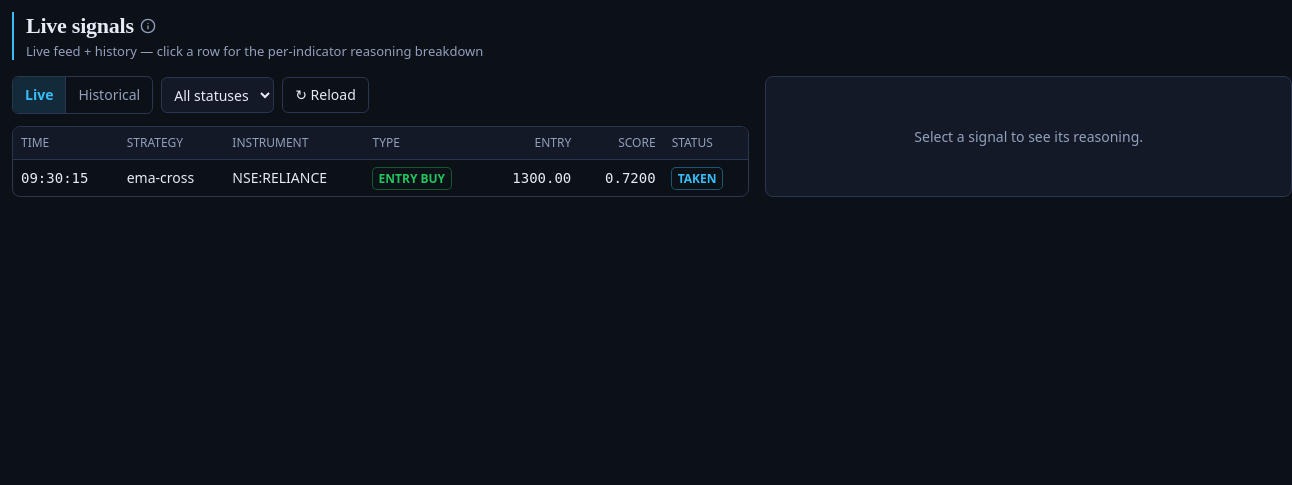
Test: SignalsPage › hides Dismiss for a TAKEN signal — discarding an open position's anchor would strand it
Click the text "NSE:RELIANCE": point(294, 178) [224,160,365,196]
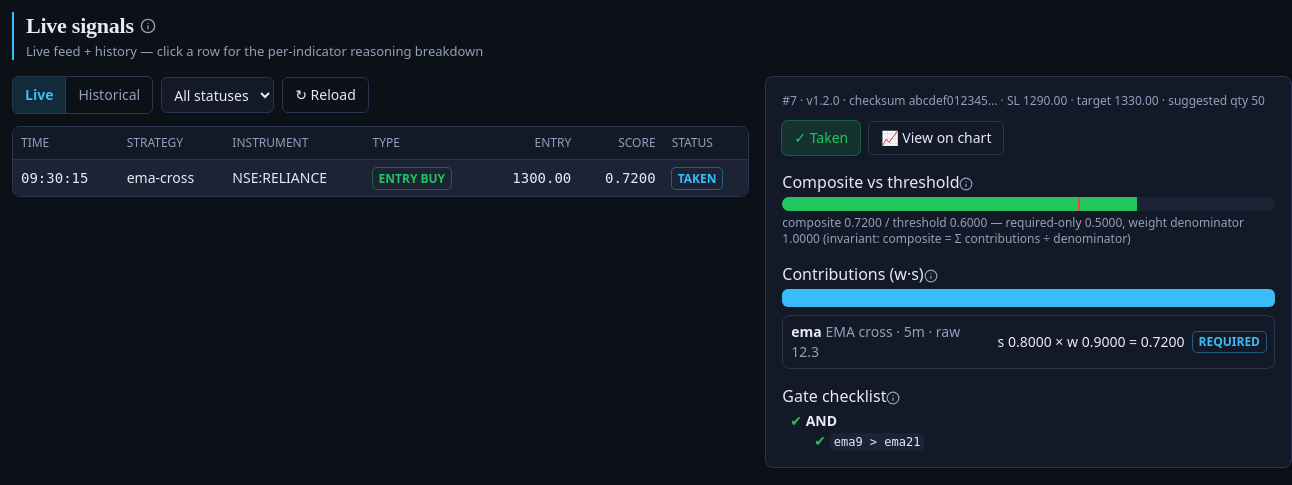
Expected: the button "✓ Taken" is shown, [782,121,860,155]
